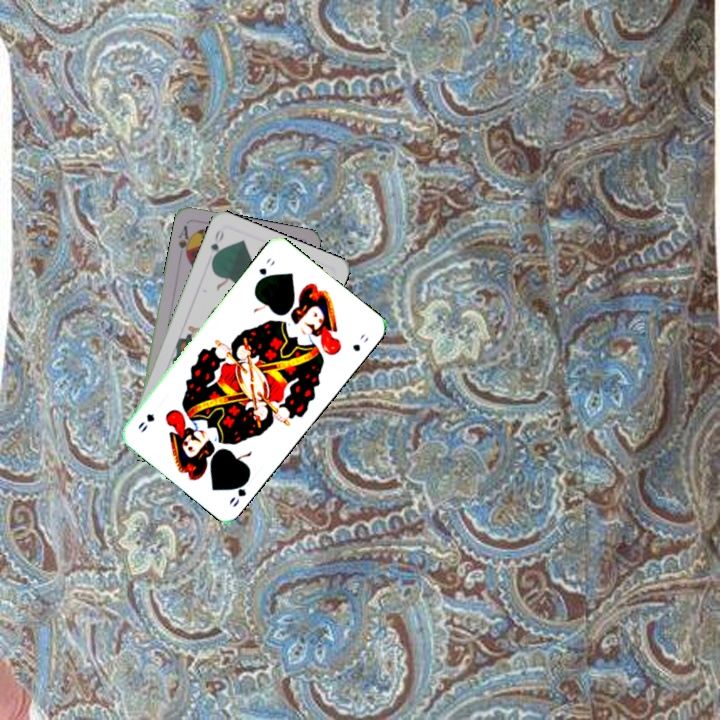GO: (225, 472, 253, 510), (252, 254, 278, 287), (206, 226, 227, 265)
SA: (174, 221, 194, 261)
